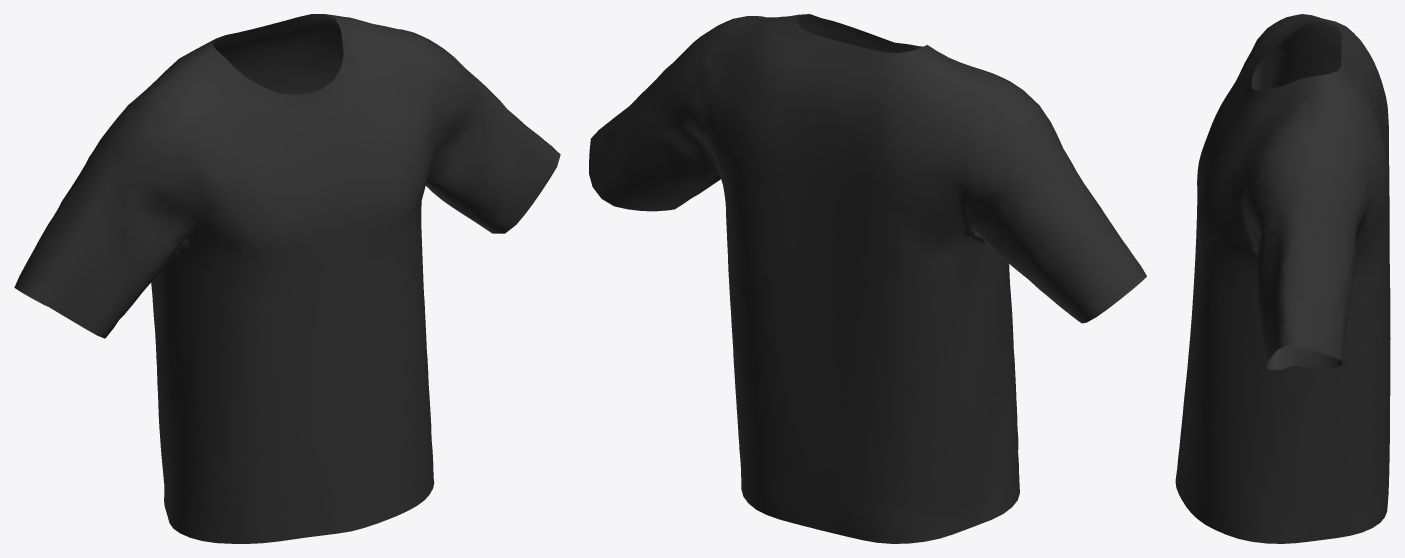
File: menFutbolka.gltf
The picture shows the model from 3 angles, left to right: view 1: azimuth 30°, elevation 25°; view 2: azimuth 150°, elevation 25°; view 3: azimuth 270°, elevation 25°; orthographic projection. The views are drawn at different scales.
Visible parts, largest first — view 1: men-futbolka; view 2: men-futbolka; view 3: men-futbolka.
Boxes of the visible parts, bbox=[...] form: men-futbolka: bbox=[14, 14, 560, 543]; men-futbolka: bbox=[589, 14, 1146, 543]; men-futbolka: bbox=[1175, 14, 1390, 543].
Bounding box in the file's own units: 2.8 × 2.3 × 1.01.
1 material, 1 textured.
